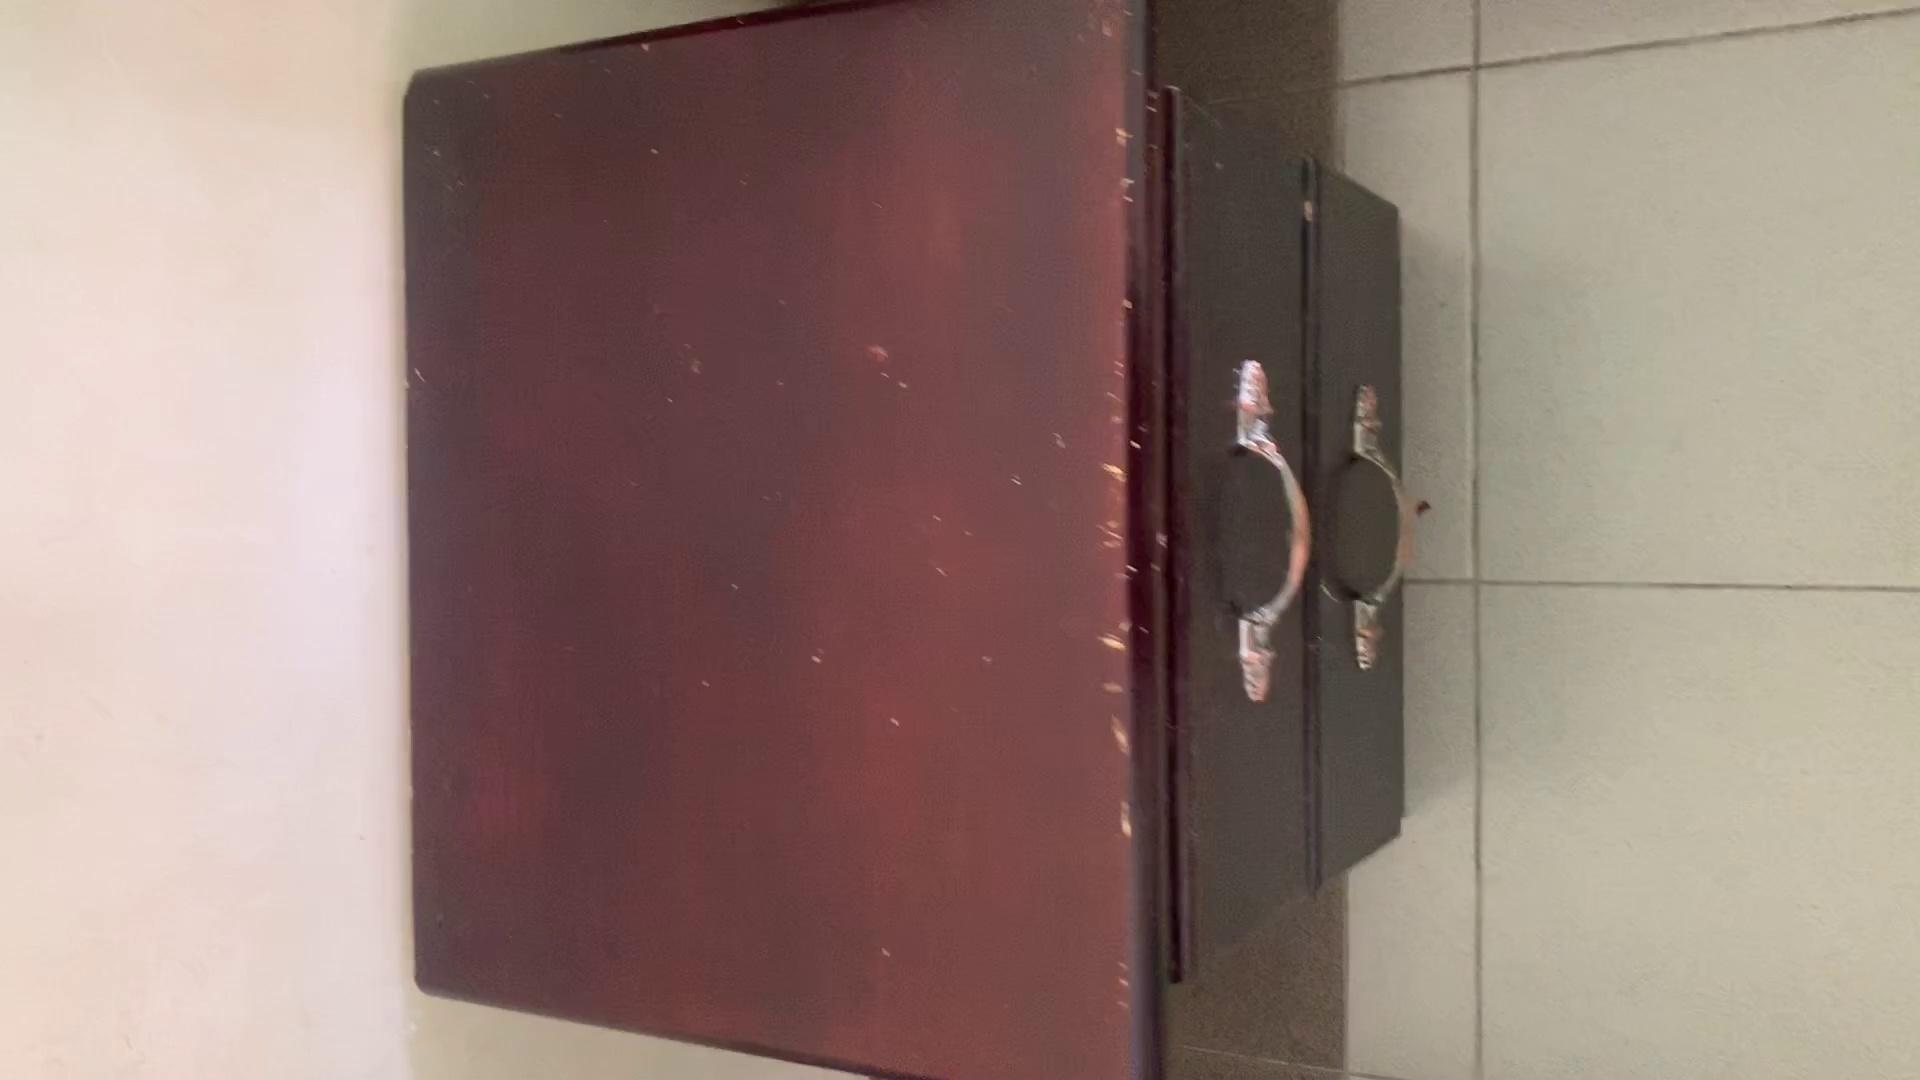cabinet_door: (1154, 119, 1312, 940), (1309, 178, 1408, 858)
handle: (1232, 360, 1321, 696), (1342, 377, 1418, 674)
